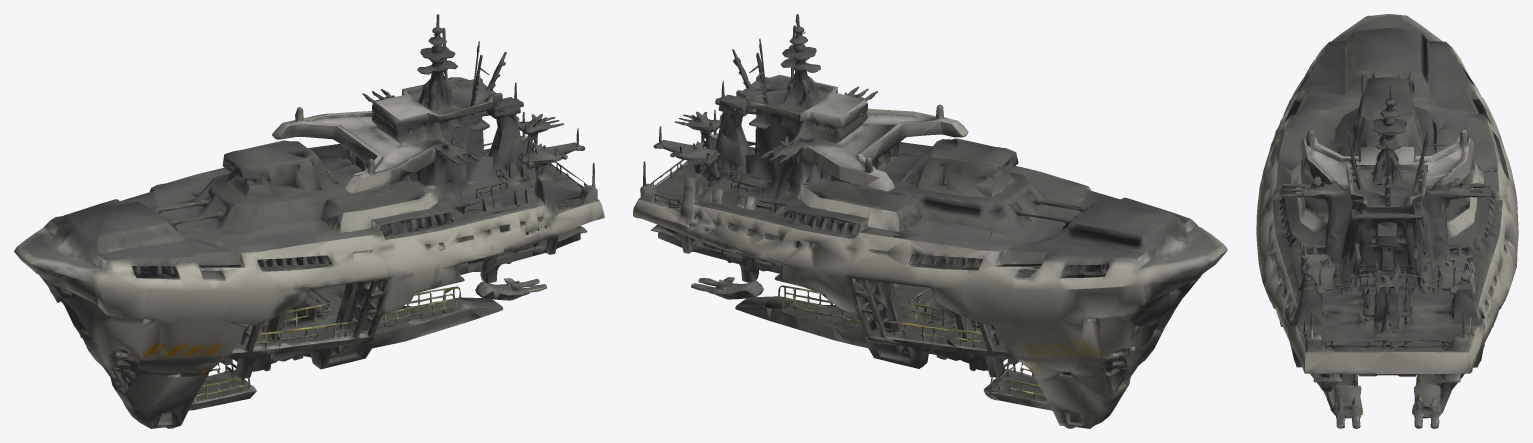
The model's file is 09_derelict_ship_bow.fbx.
3 renders of one model, left to right at view 1: azimuth 30°, elevation 25°; view 2: azimuth 150°, elevation 25°; view 3: azimuth 270°, elevation 25°, orthographic. The views are drawn at different scales.
Parts seen in each view (by area): view 1: 09_derelict_ship_bow; view 2: 09_derelict_ship_bow; view 3: 09_derelict_ship_bow.
Boxes of the visible parts, x1,y1,x2,y2 form: 09_derelict_ship_bow: (14, 14, 604, 428); 09_derelict_ship_bow: (633, 14, 1227, 428); 09_derelict_ship_bow: (1256, 14, 1518, 428).
Bounding box in the file's own units: 120 × 72.6 × 46.4.
Materials: 1 (1 with a texture image).
